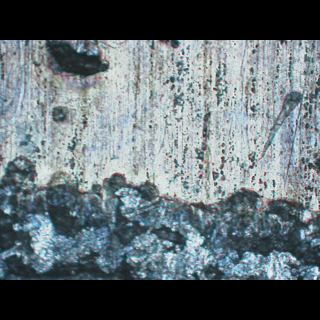d: (1, 149, 319, 279), (26, 39, 115, 83)
